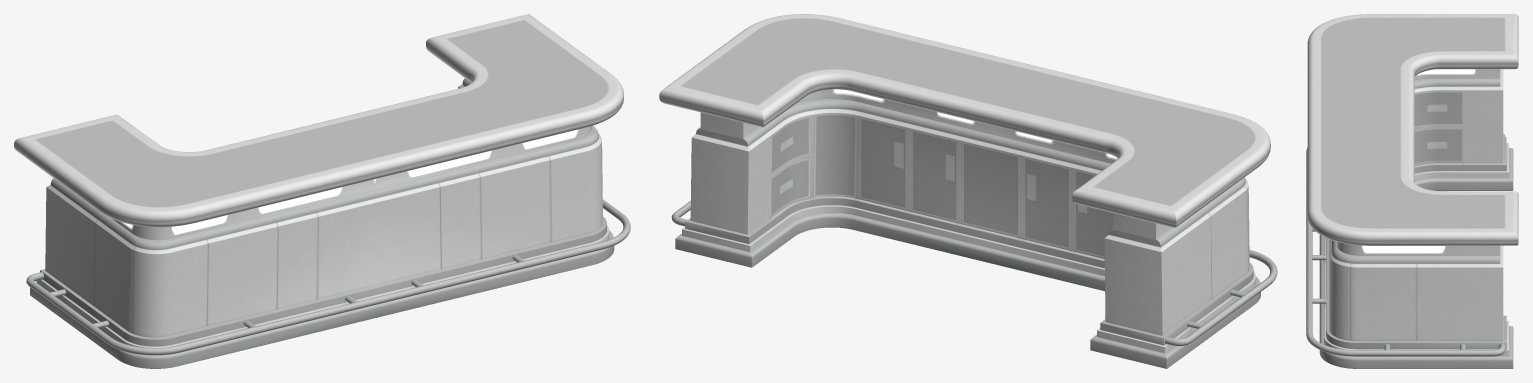
Rendered from BartenderTable03_2.FBX.
The picture shows the model from 3 angles, left to right: view 1: azimuth 30°, elevation 25°; view 2: azimuth 150°, elevation 25°; view 3: azimuth 270°, elevation 25°; orthographic projection. The views are drawn at different scales.
Parts seen in each view (by area): view 1: BartenderTable03_2; view 2: BartenderTable03_2; view 3: BartenderTable03_2.
Boxes of the visible parts, box(x1,y1,x2,y2) form: BartenderTable03_2: box(14, 14, 630, 368); BartenderTable03_2: box(659, 14, 1277, 368); BartenderTable03_2: box(1306, 14, 1518, 368).
Size of what is drawn, in the model's own units: 3.74 by 1.1 by 1.51.
